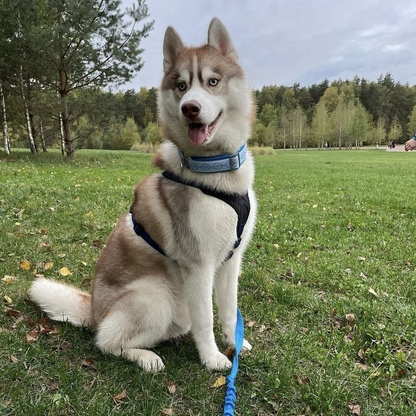husky: (21, 13, 264, 377)
